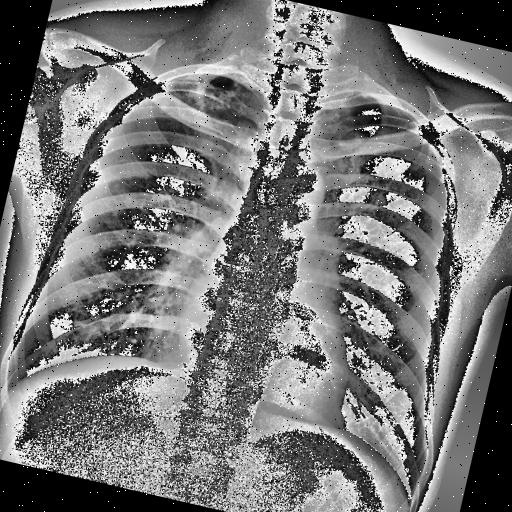11- Pleural thickening: (174, 63, 242, 92), (352, 89, 370, 99)
13- Pulmonary fibrosis: (156, 58, 276, 136)
6- Infiltration: (156, 58, 276, 136), (160, 70, 256, 136), (172, 70, 252, 122), (394, 144, 438, 181)
